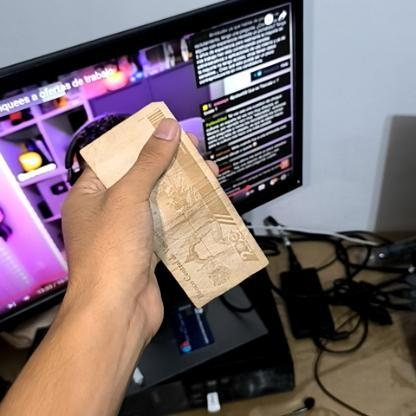five-back-vef: (78, 100, 270, 308)
